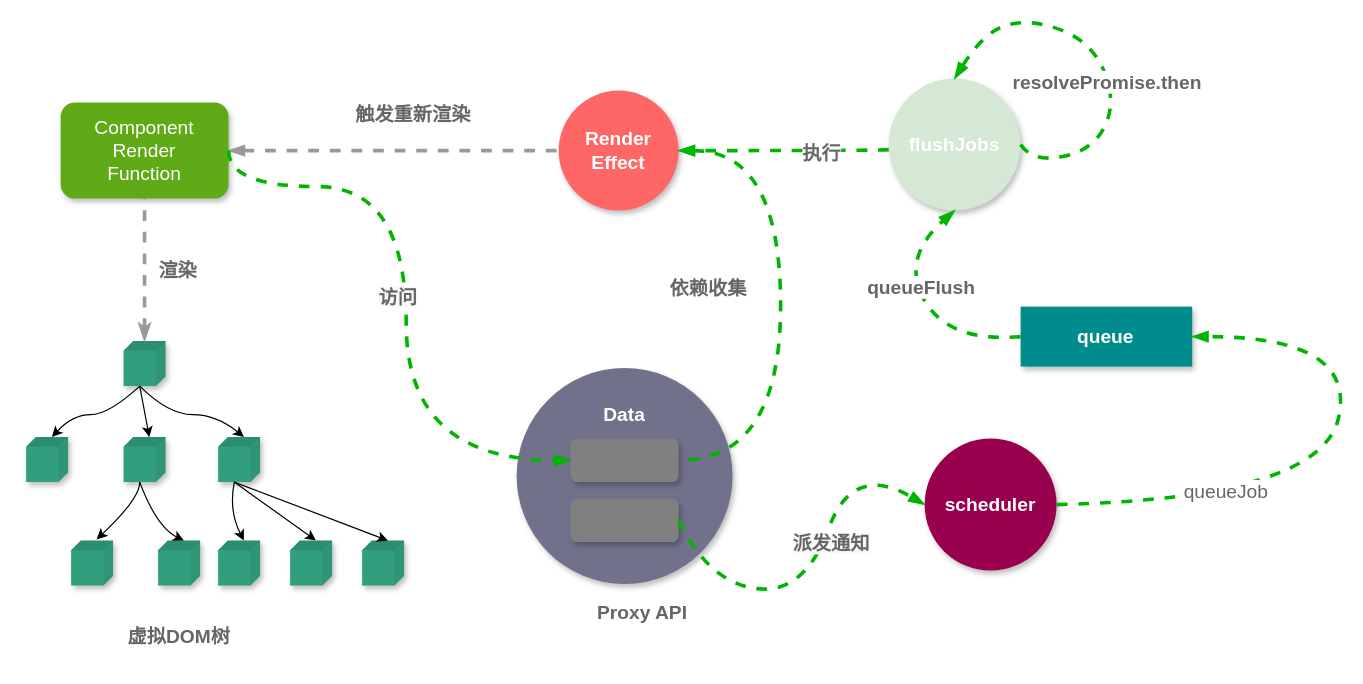
This 1363x684 diagram has some shape labels left out. Each missing label, with the centre of its shape:
"getter" goes at (625,461).
"setter" goes at (625,521).
